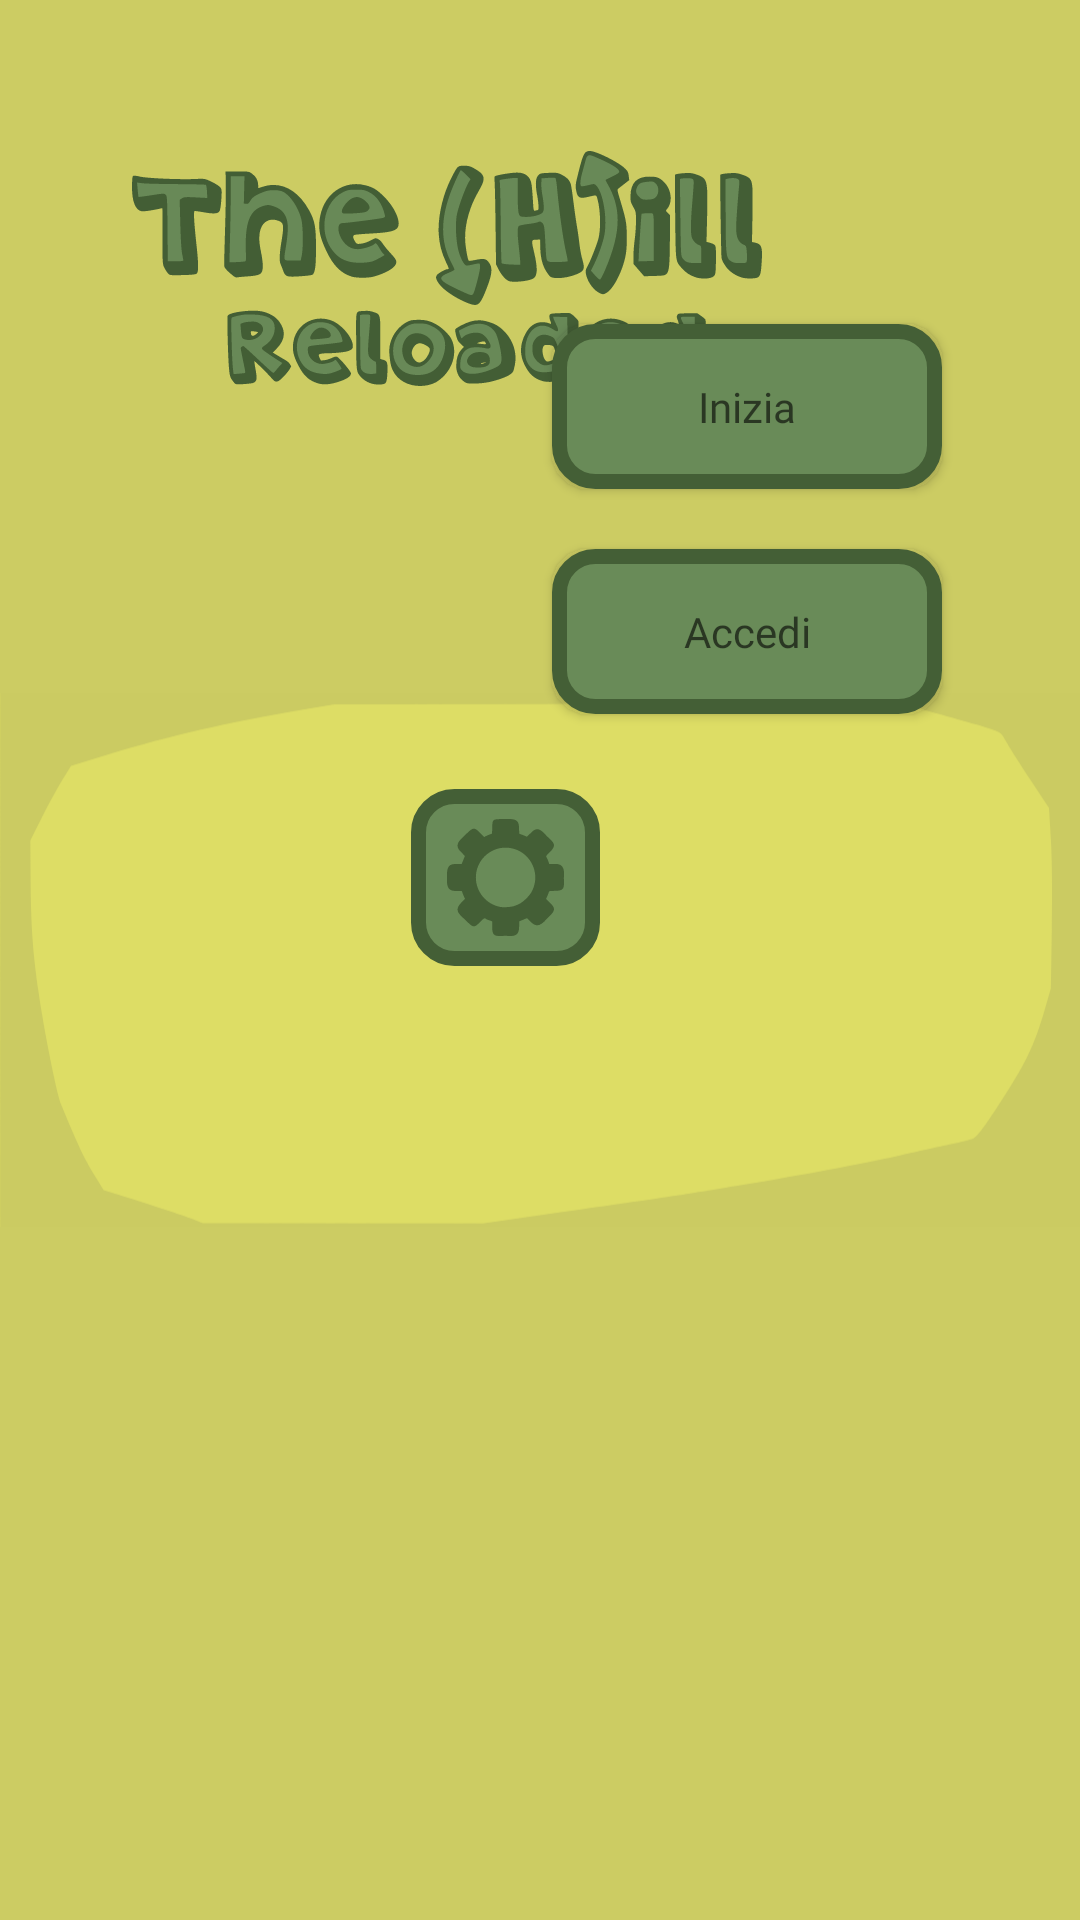

Icons on this 1080 × 1920 Android screen, each with the point to tap as (x,y):
Impostazioni: (505,877)
